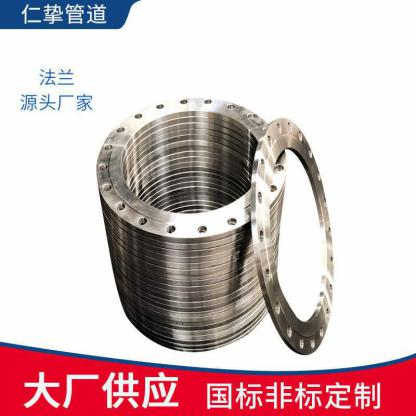FOD: (251, 114, 339, 358)
